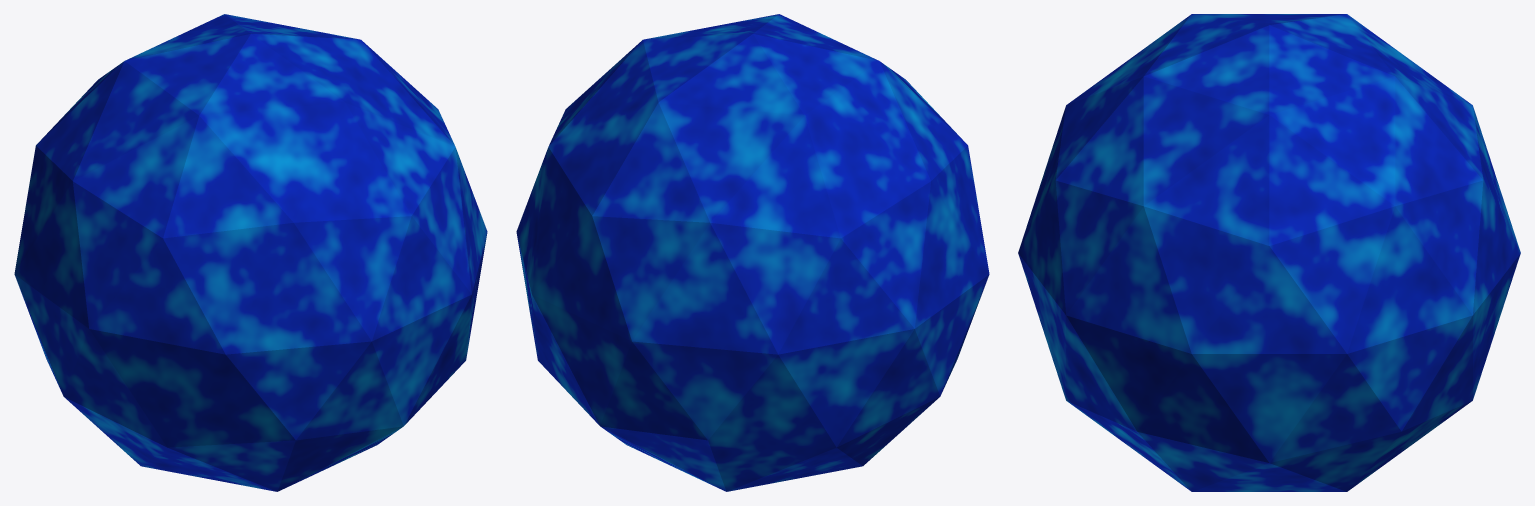
File: neptune.glb
3 views of the same model, side by side, from view 1: azimuth 30°, elevation 25°; view 2: azimuth 150°, elevation 25°; view 3: azimuth 270°, elevation 25° (orthographic). The views are drawn at different scales.
Visible parts, largest first — view 1: Icosphere.001; view 2: Icosphere.001; view 3: Icosphere.001.
Part boxes in pixels (x1,y1,x2,y2): Icosphere.001: (14,14,487,491); Icosphere.001: (516,14,989,491); Icosphere.001: (1018,14,1520,491).
Bounding box in the file's own units: 13.31 × 14 × 14.
1 material, 1 textured.
